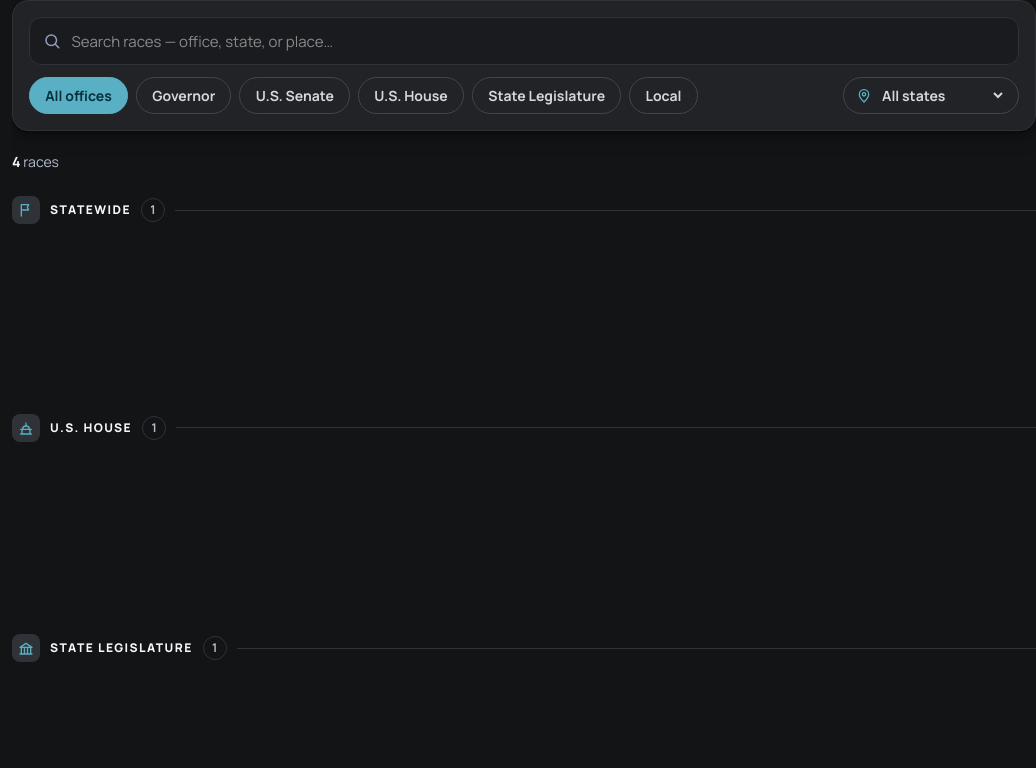
RaceBrowse — search-first › live-filters by the search box
The image size is (1036, 768).
In the search field labelled "Search races": (524, 41) x1=29 y1=17 x2=1019 y2=65, type "governor"
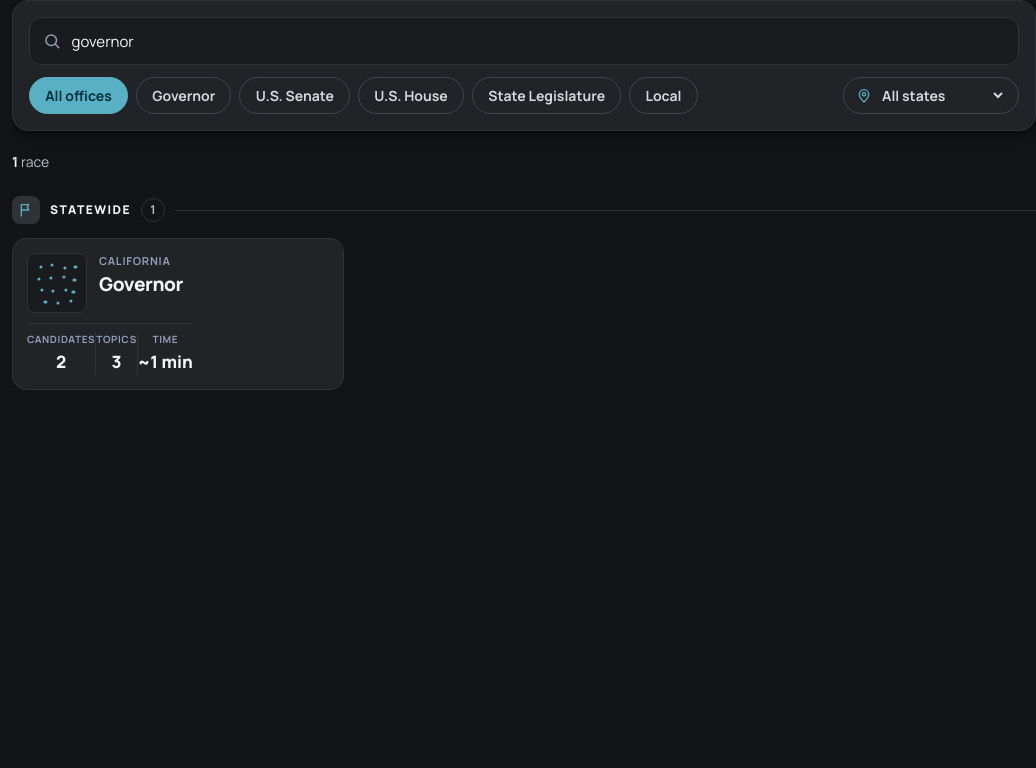
Now the button with aria-label "open governor race" is shown, box x1=12 y1=238 x2=344 y2=390
